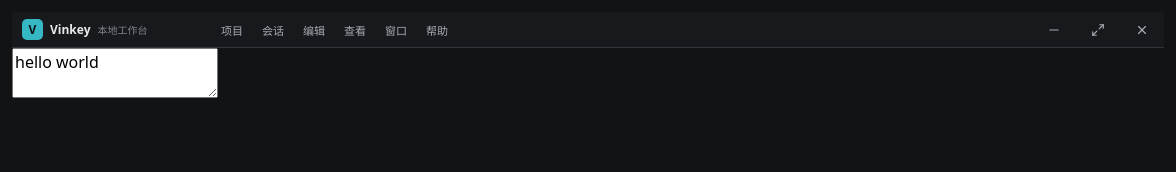
Test case: Windows title-bar menu › keeps project and document commands in their intended scopes
Click the button "项目": (232, 30) [212,16,252,42]
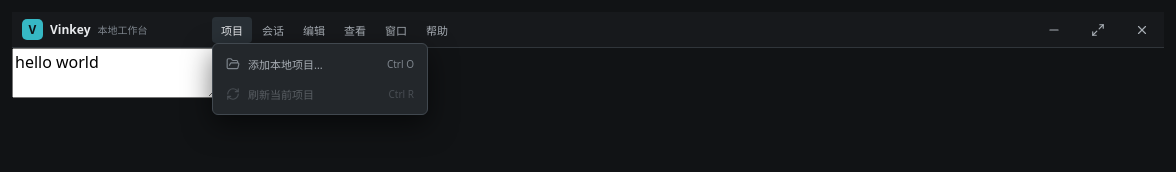
Expected: the menu item "添加本地项目… Ctrl O" is enabled, [218,49,422,79]
Expected: the menu item "刷新当前项目 Ctrl R" is disabled, [218,79,422,109]
